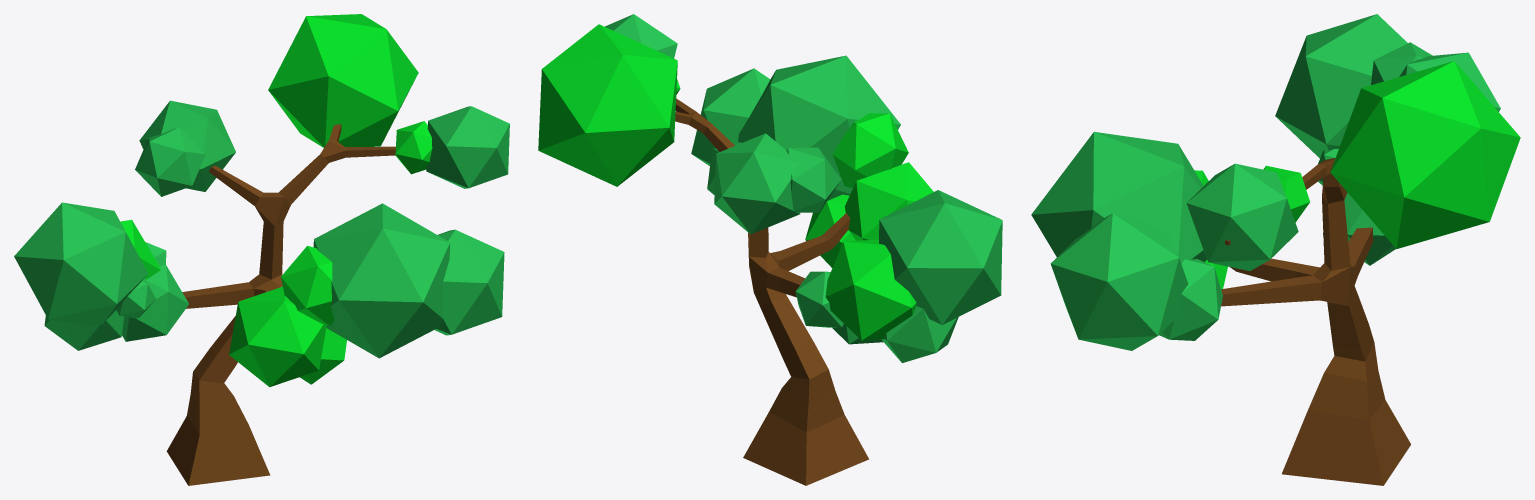
The picture shows the model from 3 angles, left to right: view 1: azimuth 30°, elevation 25°; view 2: azimuth 150°, elevation 25°; view 3: azimuth 270°, elevation 25°; orthographic projection. The views are drawn at different scales.
Parts seen in each view (by area): view 1: Plane, Icosphere.006, Icosphere.005, Icosphere.010, Icosphere.003, Icosphere.007, Icosphere, Icosphere.009, Icosphere.011, Icosphere.004, Icosphere.015, Icosphere.013 (+4 smaller); view 2: Icosphere.005, Plane, Icosphere.010, Icosphere.006, Icosphere.014, Icosphere.009, Icosphere.003, Icosphere.004, Icosphere, Icosphere.011, Icosphere.013, Icosphere.016 (+2 smaller); view 3: Icosphere.005, Plane, Icosphere, Icosphere.006, Icosphere.010, Icosphere.007, Icosphere.002, Icosphere.009, Icosphere.015, Icosphere.011, Icosphere.008.
Part boxes in pixels (x1,y1,x2,y2): Plane: [166, 124, 395, 485]; Icosphere.006: [313, 203, 449, 358]; Icosphere.005: [268, 14, 418, 147]; Icosphere.010: [14, 202, 148, 326]; Icosphere.003: [229, 286, 326, 387]; Icosphere.007: [426, 106, 509, 188]; Icosphere: [434, 229, 504, 335]; Icosphere.009: [139, 100, 235, 191]; Icosphere.011: [135, 127, 205, 196]; Icosphere.004: [281, 245, 334, 325]; Icosphere.015: [122, 265, 188, 341]; Icosphere.013: [44, 310, 123, 350]; Icosphere.005: [538, 24, 677, 186]; Plane: [675, 98, 868, 485]; Icosphere.010: [879, 190, 1002, 324]; Icosphere.006: [738, 55, 900, 200]; Icosphere.014: [825, 239, 916, 340]; Icosphere.009: [714, 133, 800, 234]; Icosphere.003: [844, 162, 933, 240]; Icosphere.004: [832, 113, 908, 187]; Icosphere: [691, 68, 770, 166]; Icosphere.011: [786, 147, 841, 212]; Icosphere.013: [881, 306, 958, 363]; Icosphere.016: [795, 271, 844, 327]; Icosphere.005: [1330, 61, 1520, 248]; Plane: [1221, 158, 1410, 485]; Icosphere: [1050, 213, 1188, 350]; Icosphere.006: [1031, 132, 1206, 263]; Icosphere.010: [1275, 14, 1407, 158]; Icosphere.007: [1186, 163, 1298, 271]; Icosphere.002: [1159, 259, 1222, 340]; Icosphere.009: [1399, 52, 1500, 111]; Icosphere.015: [1323, 192, 1395, 265]; Icosphere.011: [1371, 42, 1432, 84]; Icosphere.008: [1263, 165, 1309, 222].
Size of the model in its own units: 1227 by 1043 by 967.
